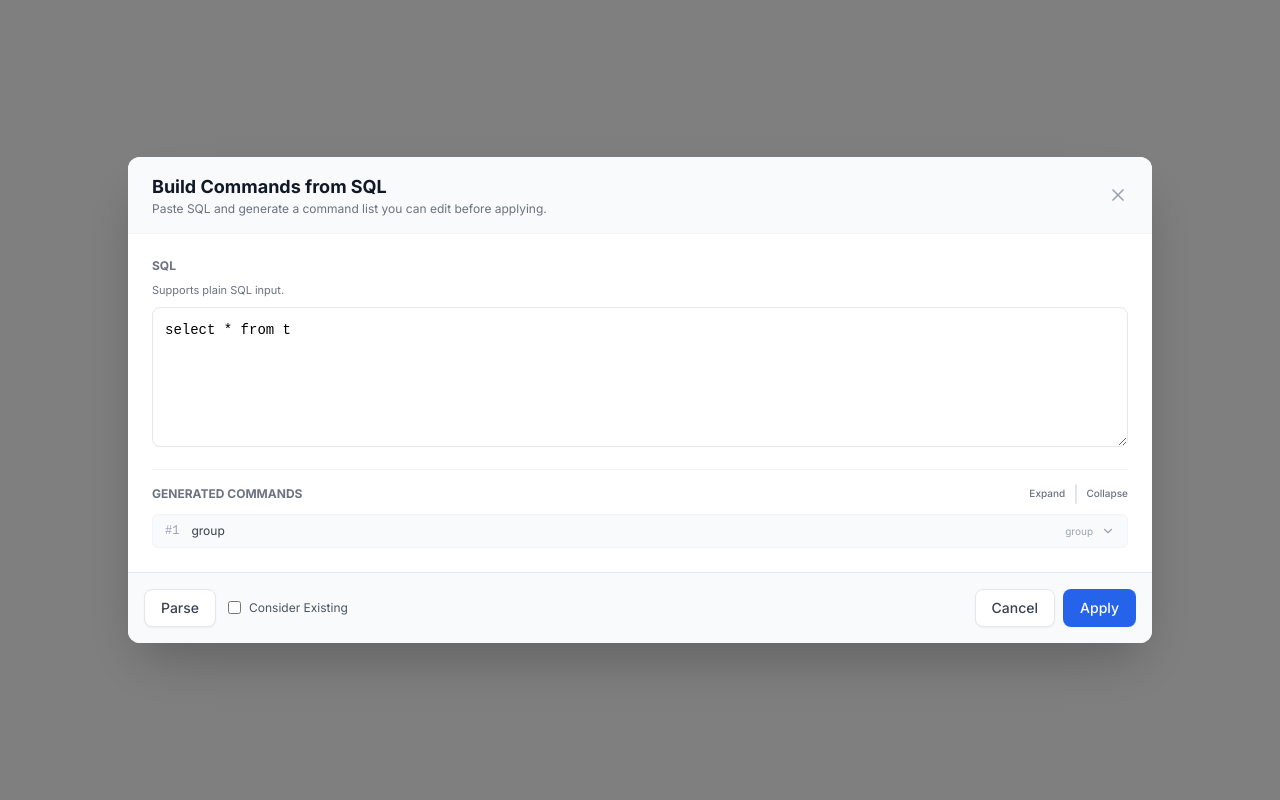
Test: SqlBuilderModal editable command sections › renders editable group/having section
The width and height of the screenshot is (1280, 800).
Click the button "#1 group group".
click(208, 530)  # box [153, 515, 1127, 547]
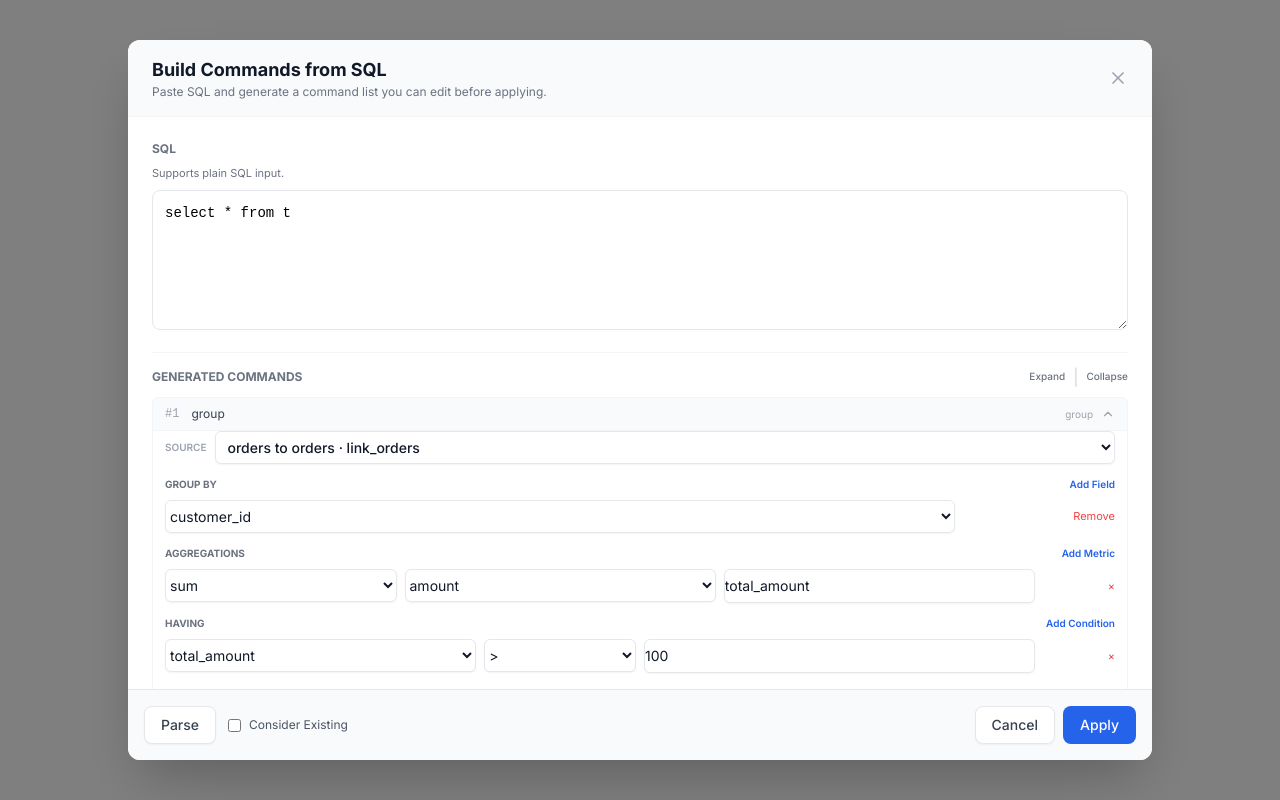
Now the text "Group By" is shown, box [165, 476, 217, 492]
Now the text "Aggregations" is shown, box [165, 544, 245, 560]
Now the text "Having" is shown, box [165, 614, 205, 630]
